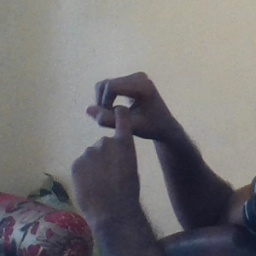Q: (68, 70, 172, 197)
